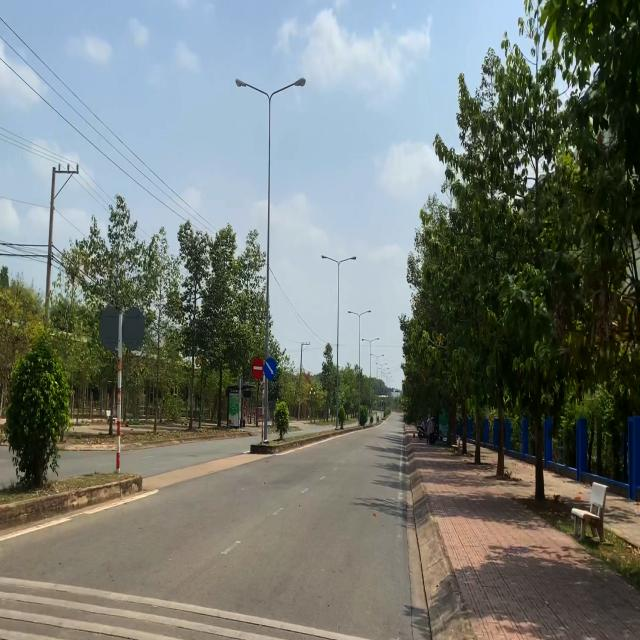Cam nguoc chieu: (252, 357, 264, 379)
Hieu lenh: (264, 357, 276, 380)
